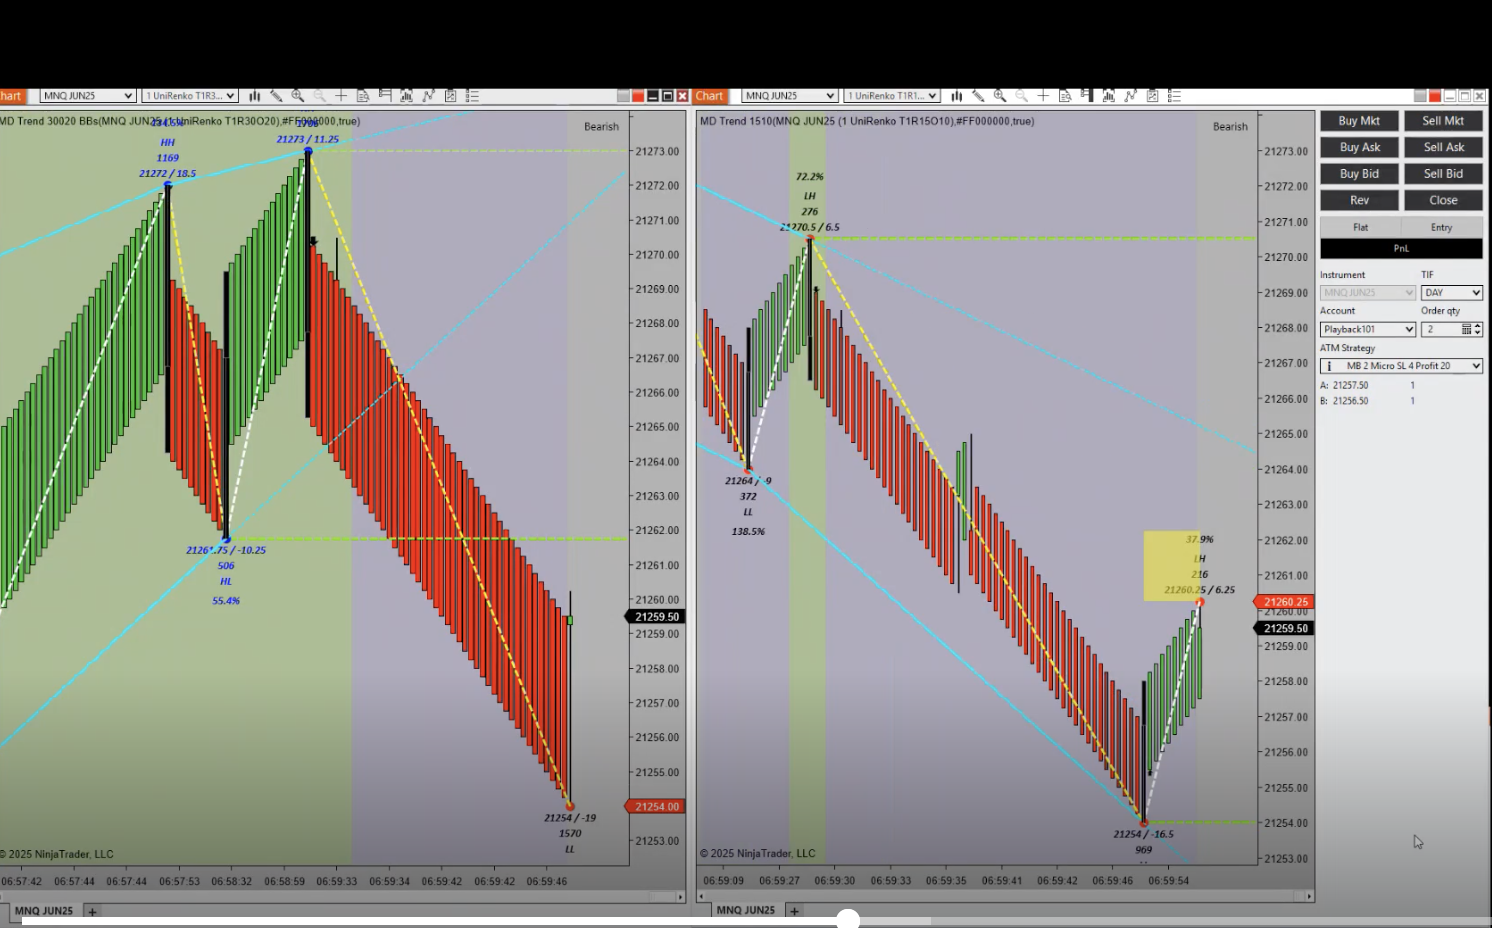candle: (165, 184, 173, 458), (304, 150, 312, 422), (222, 272, 231, 540), (806, 238, 815, 387), (744, 332, 750, 477), (1141, 683, 1147, 830)
